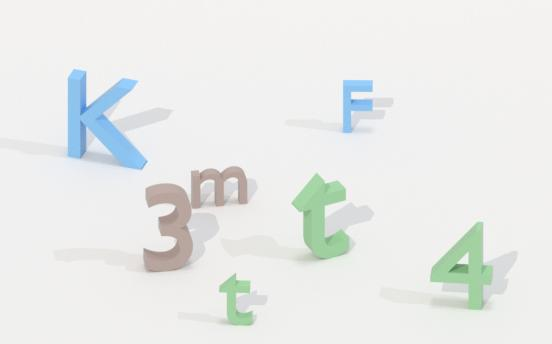3: (138, 185, 202, 280)
4: (427, 219, 493, 313)
F: (338, 75, 378, 137)
k: (61, 71, 156, 175)
m: (192, 166, 254, 211)
t: (290, 170, 352, 266), (212, 271, 261, 327)
